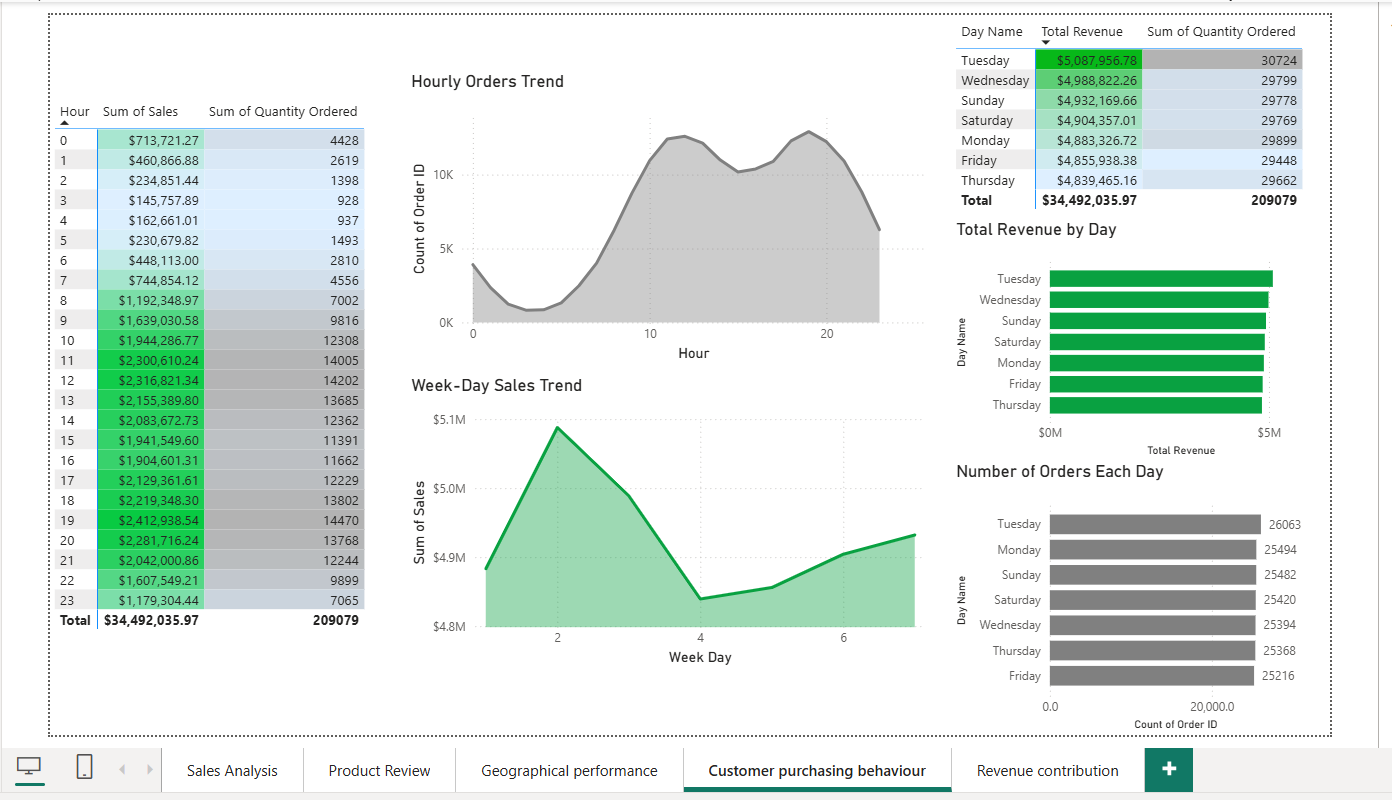

The page's visual inventory and layout, read from the dashboard file:
{"tool":"powerbi","page":{"name":"Customer purchasing behaviour","canvas":[1280,720],"ordinal":3},"visuals":[{"type":"areaChart","title":"Hourly Orders Trend","fields":{"Category":["Sales Data For Analysis.Hour"],"Y":["CountNonNull(Sales Data For Analysis.Order ID)"]},"box":[356.2,56.2,523.8,295],"z":0},{"type":"pivotTable","fields":{"Rows":["Sales Data For Analysis.Hour"],"Values":["Sum(Sales Data For Analysis.Sales)","Sum(Sales Data For Analysis.Quantity Ordered)"]},"box":[0,80,331.2,543.8],"z":1},{"type":"areaChart","title":"Week-Day Sales Trend","fields":{"Category":["Sales Data For Analysis.Week Day"],"Y":["Sum(Sales Data For Analysis.Sales)"]},"box":[356.2,360,523.8,295],"z":2},{"type":"barChart","title":"Number of Orders Each Day ","fields":{"Category":["Sales Data For Analysis.Day Name"],"Y":["Count(Sales Data For Analysis.Order ID)"]},"box":[901.2,446.2,378.8,273.8],"z":3},{"type":"pivotTable","fields":{"Rows":["Sales Data For Analysis.Day Name"],"Values":["Sales Data For Analysis.Total Revenue","Sum(Sales Data For Analysis.Quantity Ordered)"]},"box":[901.2,0,378.8,203.8],"z":4},{"type":"barChart","title":"Total Revenue by Day","fields":{"Category":["Sales Data For Analysis.Day Name"],"Y":["Sales Data For Analysis.Total Revenue"]},"box":[901.2,203.8,378.8,242.5],"z":5}]}

Visuals, with their boxes on the page's 1280x720 design canvas (x1, y1, x2, y2). These are canvas units, not pixel positions in the 1392x800 screenshot, which may show the page scaled, cropped or inside an application window:
"Hourly Orders Trend" areaChart: rect(356, 56, 880, 351)
pivotTable - Sales Data For Analysis.Hour x Sum(Sales Data For Analysis.Sales): rect(0, 80, 331, 624)
"Week-Day Sales Trend" areaChart: rect(356, 360, 880, 655)
"Number of Orders Each Day " barChart: rect(901, 446, 1280, 720)
pivotTable - Sales Data For Analysis.Day Name x Sales Data For Analysis.Total Revenue: rect(901, 0, 1280, 204)
"Total Revenue by Day" barChart: rect(901, 204, 1280, 446)
